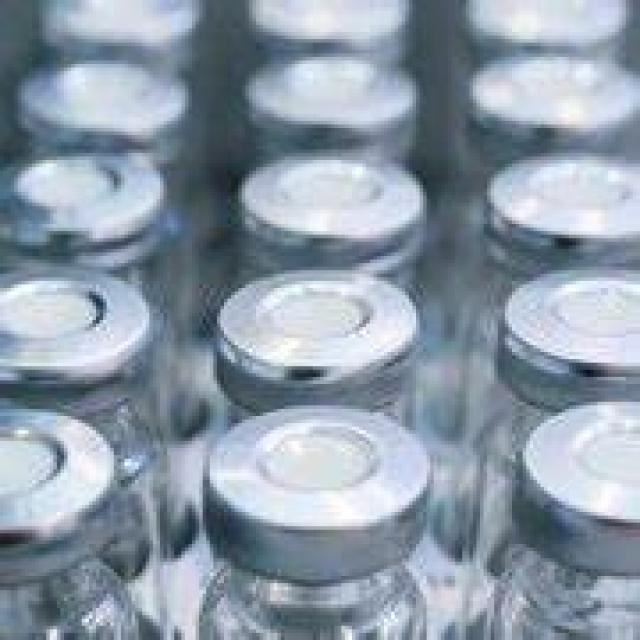vial: (198, 399, 383, 532), (214, 274, 424, 371), (0, 400, 122, 545), (0, 257, 157, 369), (516, 401, 640, 542), (239, 158, 432, 247), (503, 264, 640, 386), (18, 53, 195, 128), (488, 161, 638, 245), (13, 142, 161, 227), (470, 64, 640, 135), (249, 61, 415, 132), (249, 0, 403, 54), (454, 0, 632, 44), (27, 0, 208, 42)
